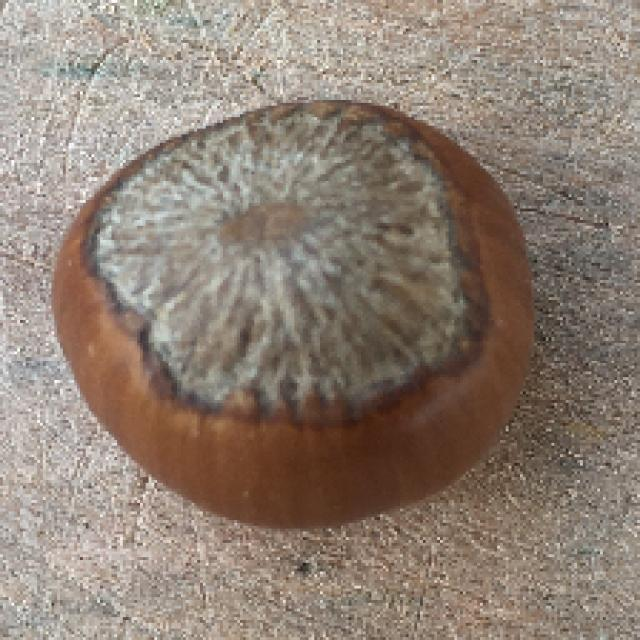damagedHazelnut: (53, 88, 534, 537)
